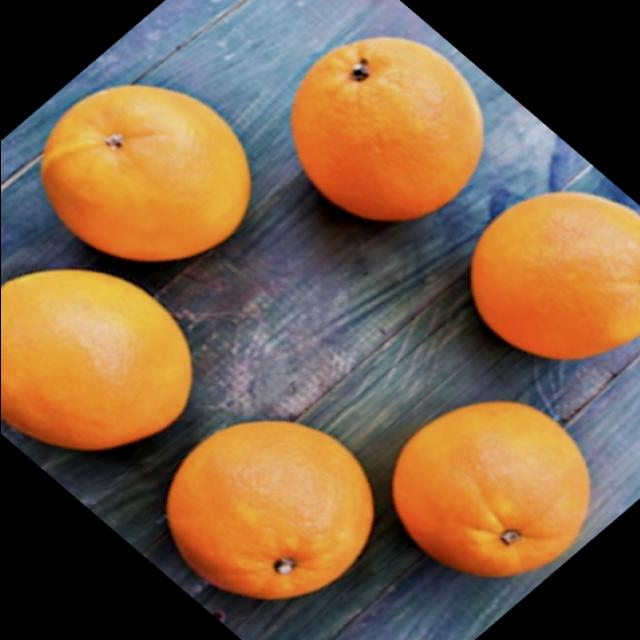orange: (35, 70, 274, 274), (158, 408, 384, 612), (287, 24, 493, 242), (380, 393, 604, 583), (0, 263, 208, 454), (461, 183, 640, 376)
